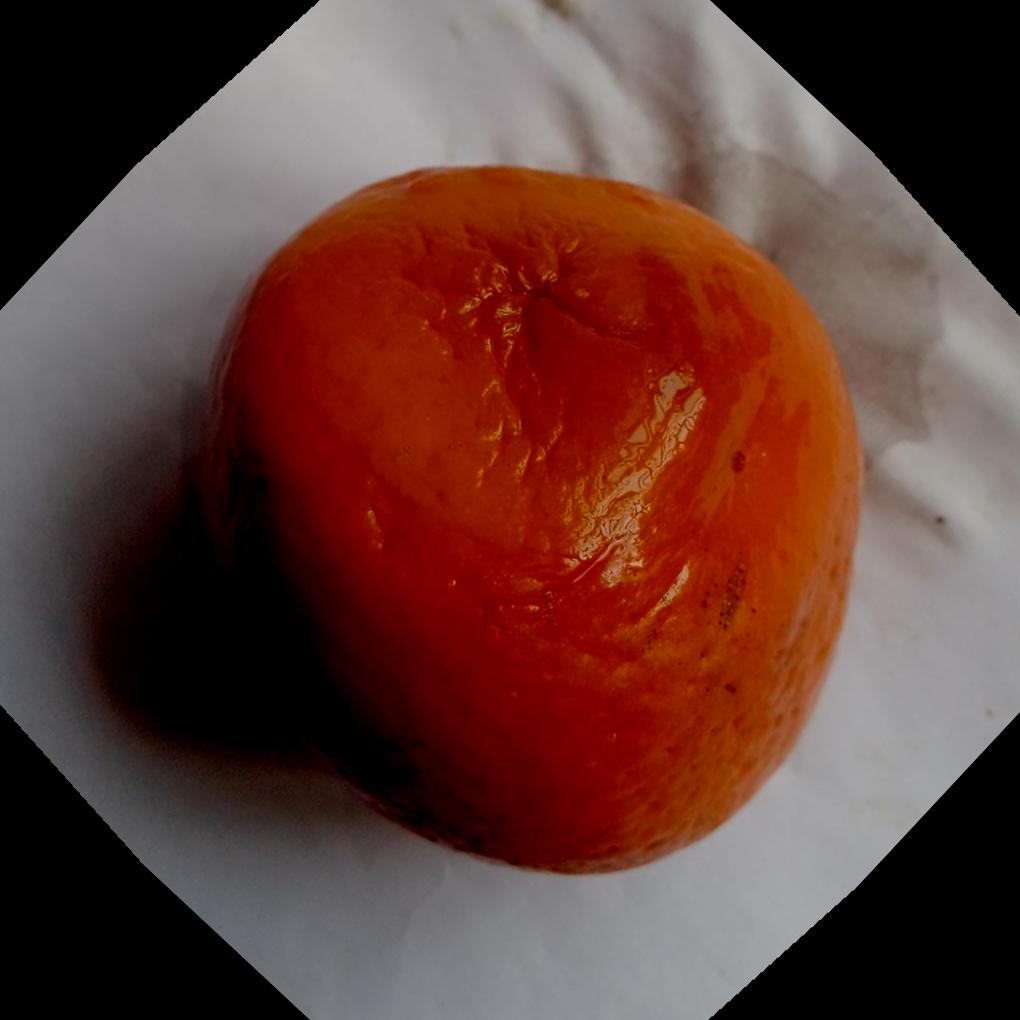FreshOrange: (180, 163, 870, 879)
